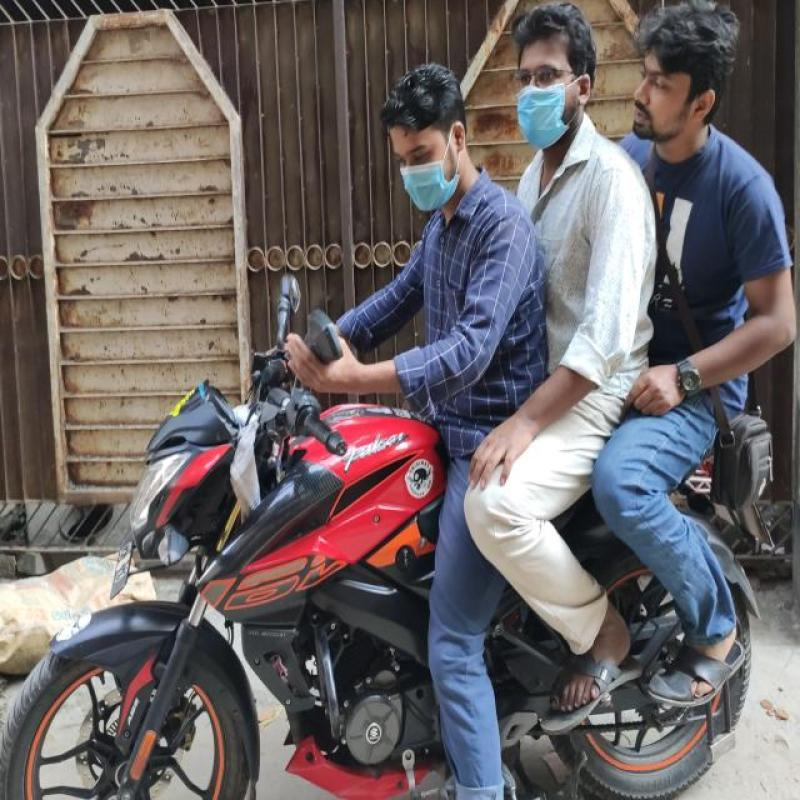nohelmet: (618, 0, 753, 140), (378, 53, 486, 218), (506, 0, 599, 144)
